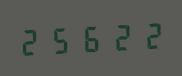five: (47, 22, 75, 56)
six: (76, 20, 104, 55)
two: (18, 23, 46, 58), (134, 17, 162, 52), (105, 19, 133, 53)
